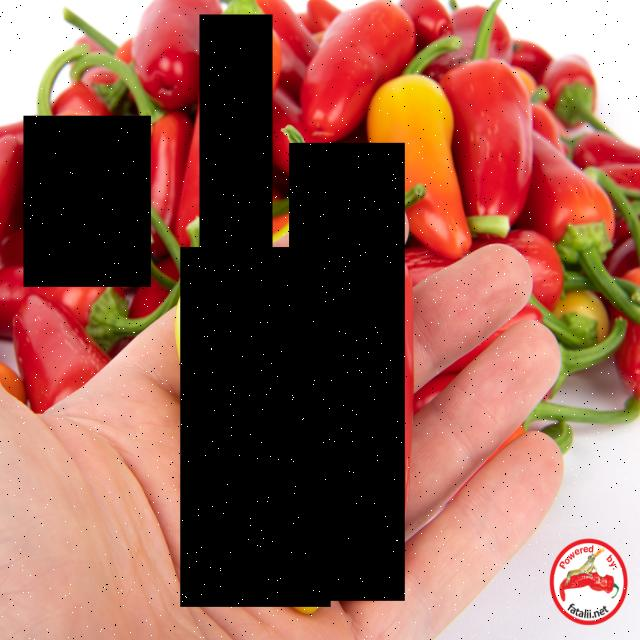Chili_Pepper: (180, 247, 331, 607), (289, 143, 405, 601), (23, 116, 151, 287), (200, 15, 272, 250)
